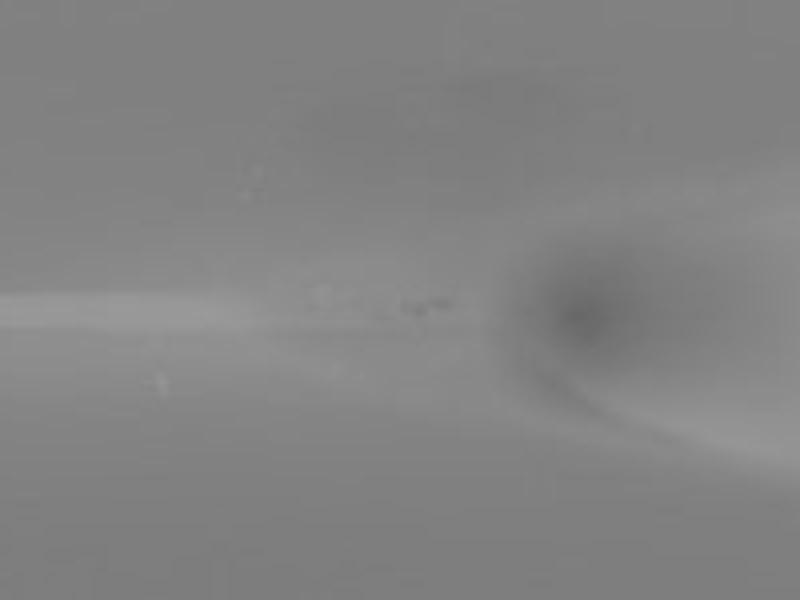defect: (532, 277, 638, 363), (406, 297, 425, 318), (432, 298, 455, 313)
